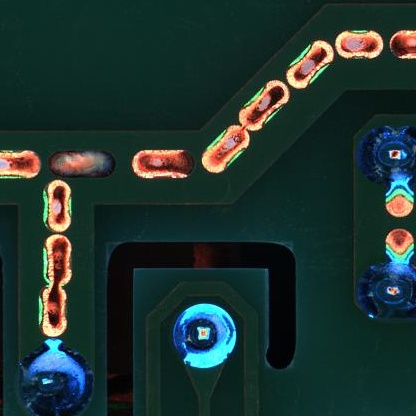spot: (17, 347, 94, 416), (172, 302, 237, 367), (355, 262, 416, 318), (355, 126, 416, 181)
